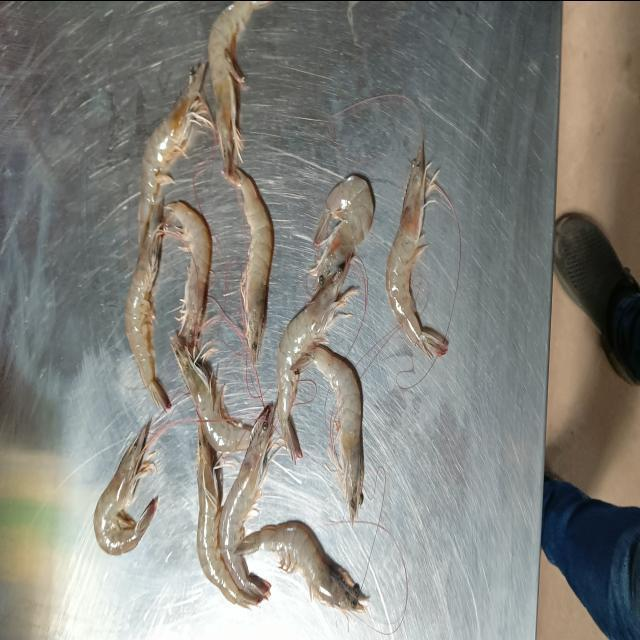shrimp: (276, 261, 356, 461), (139, 62, 214, 246), (386, 142, 448, 357), (196, 423, 261, 607), (238, 520, 369, 611), (209, 0, 271, 177), (219, 403, 275, 598), (310, 346, 364, 523), (125, 202, 170, 410), (171, 337, 251, 452), (230, 166, 274, 363), (94, 421, 158, 554), (310, 175, 374, 292), (166, 200, 212, 346)
